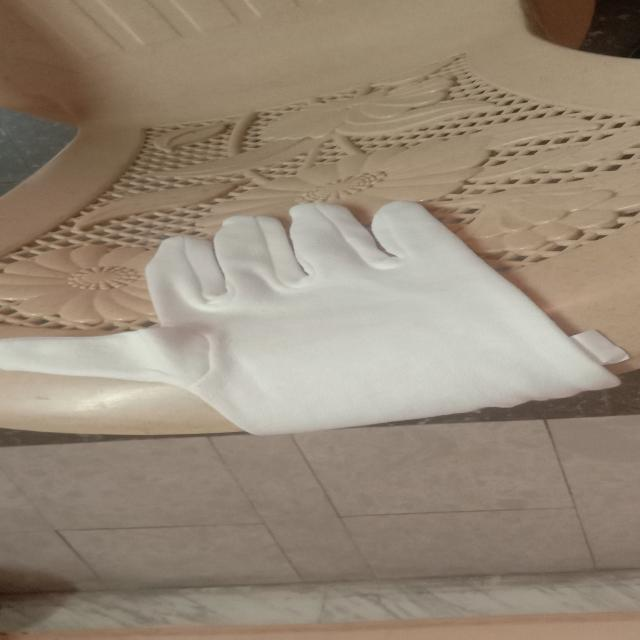gloved_hand: (0, 205, 629, 459)
